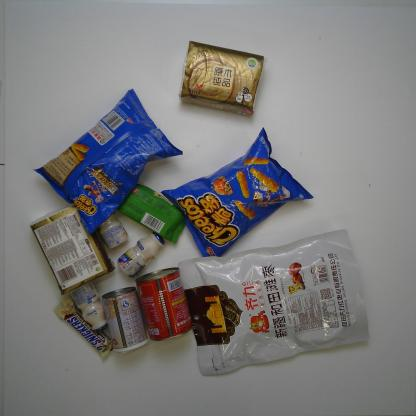Canned Food: (133, 266, 194, 342), (101, 287, 149, 356)
Chocolate: (51, 296, 116, 361)
Dessert: (108, 176, 190, 244)
Dried Food: (176, 227, 370, 378)
Milk: (67, 275, 107, 334), (119, 231, 164, 278), (89, 197, 128, 250)
Puffed Food: (32, 86, 184, 235), (160, 126, 315, 262)
Tissue: (28, 200, 115, 298), (178, 40, 265, 118)
